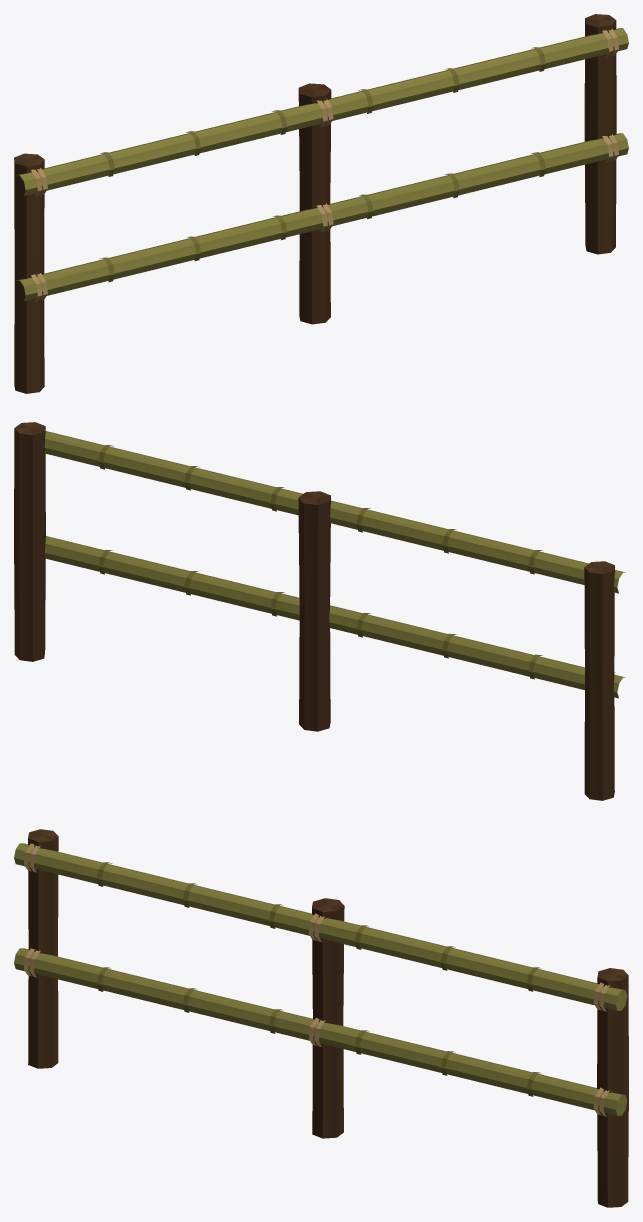
File: railing.glb
3 renders of one model, top to bottom at view 1: azimuth 30°, elevation 25°; view 2: azimuth 150°, elevation 25°; view 3: azimuth 330°, elevation 25°, orthographic.
Visible parts, largest first — view 1: b_railing_solid; view 2: b_railing_solid; view 3: b_railing_solid.
Boxes of the visible parts, bbox=[...] form: b_railing_solid: bbox=[14, 14, 628, 393]; b_railing_solid: bbox=[14, 422, 625, 800]; b_railing_solid: bbox=[14, 829, 628, 1207].
Bounding box in the file's own units: 3 × 1.08 × 0.1919.
